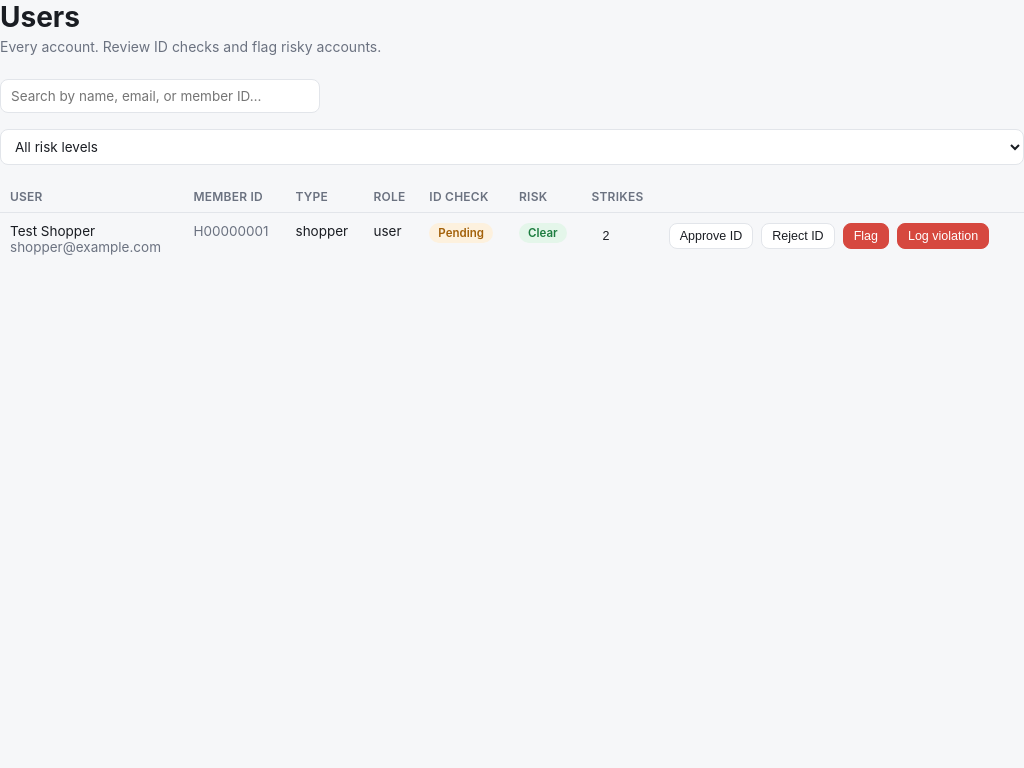
UsersPage › shows a user's violation history when the strike count is clicked
The width and height of the screenshot is (1024, 768).
What coordinates should you click on to do the following:
click the button "2"
I would click on:
 (606, 236)
Its box is [592,223,620,249].
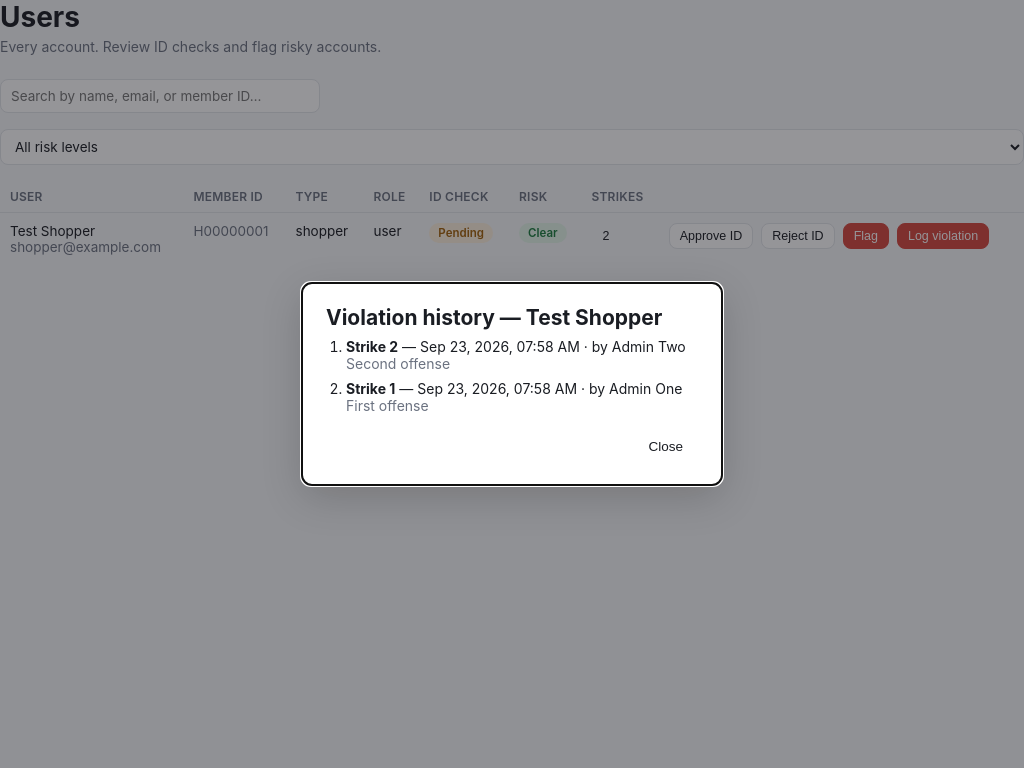
Result: the text "Second offense" is shown at [346,355,450,372]
Result: the text "First offense" is shown at [346,397,429,414]
Result: the text "Strike 2" is shown at [346,338,398,355]
